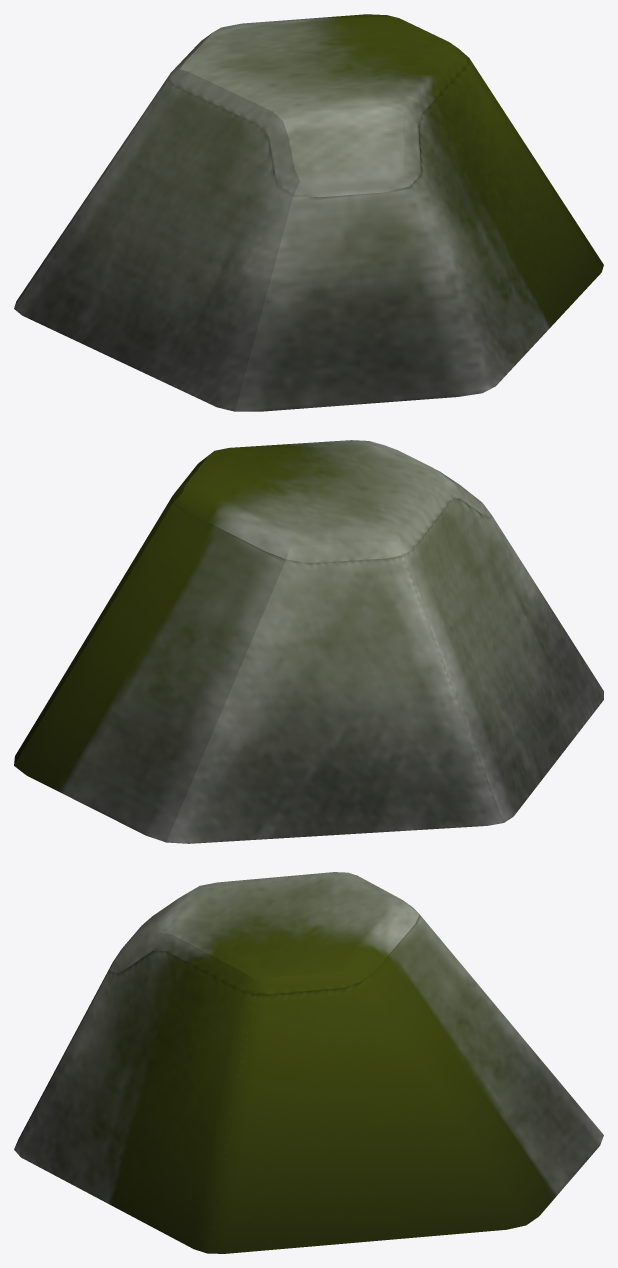
File: rock1_unity.fbx
3 views of the same model, one above another, from view 1: azimuth 30°, elevation 25°; view 2: azimuth 150°, elevation 25°; view 3: azimuth 270°, elevation 25° (orthographic). The views are drawn at different scales.
Parts seen in each view (by area): view 1: Object009; view 2: Object009; view 3: Object009.
Boxes of the visible parts, bbox=[...] form: Object009: bbox=[14, 14, 603, 411]; Object009: bbox=[14, 440, 603, 843]; Object009: bbox=[14, 872, 603, 1253].
Size of the model in its own units: 22.23 by 24.28 by 10.12.
Materials: 1 (1 with a texture image).
